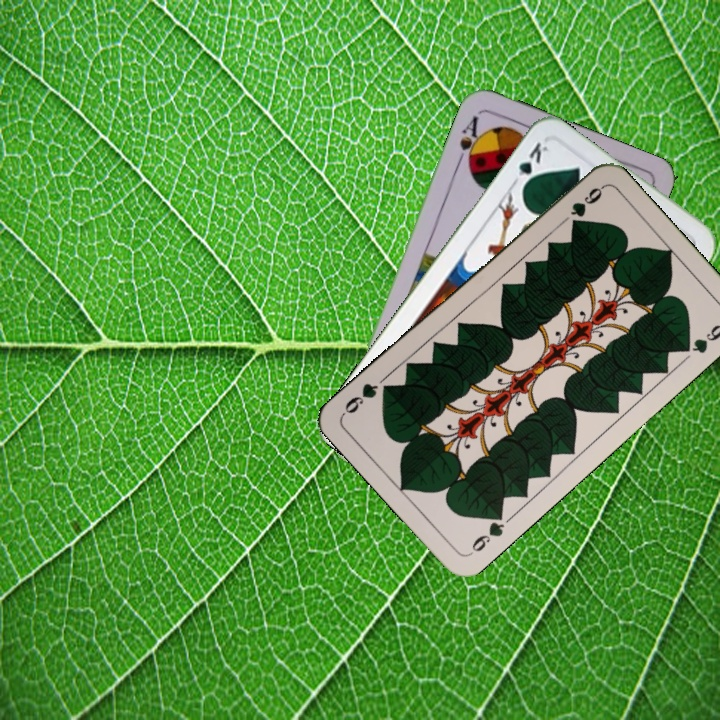G9: (557, 182, 606, 226), (466, 506, 507, 558)
GK: (508, 137, 552, 193)
SA: (453, 112, 486, 170)
